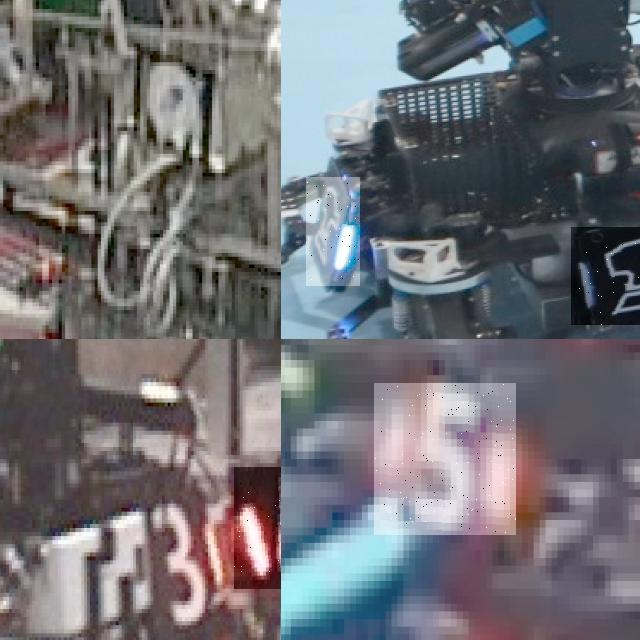Bs: (571, 227, 640, 325), (306, 177, 360, 286)
R4: (234, 467, 281, 588)
R5: (374, 383, 516, 535)
